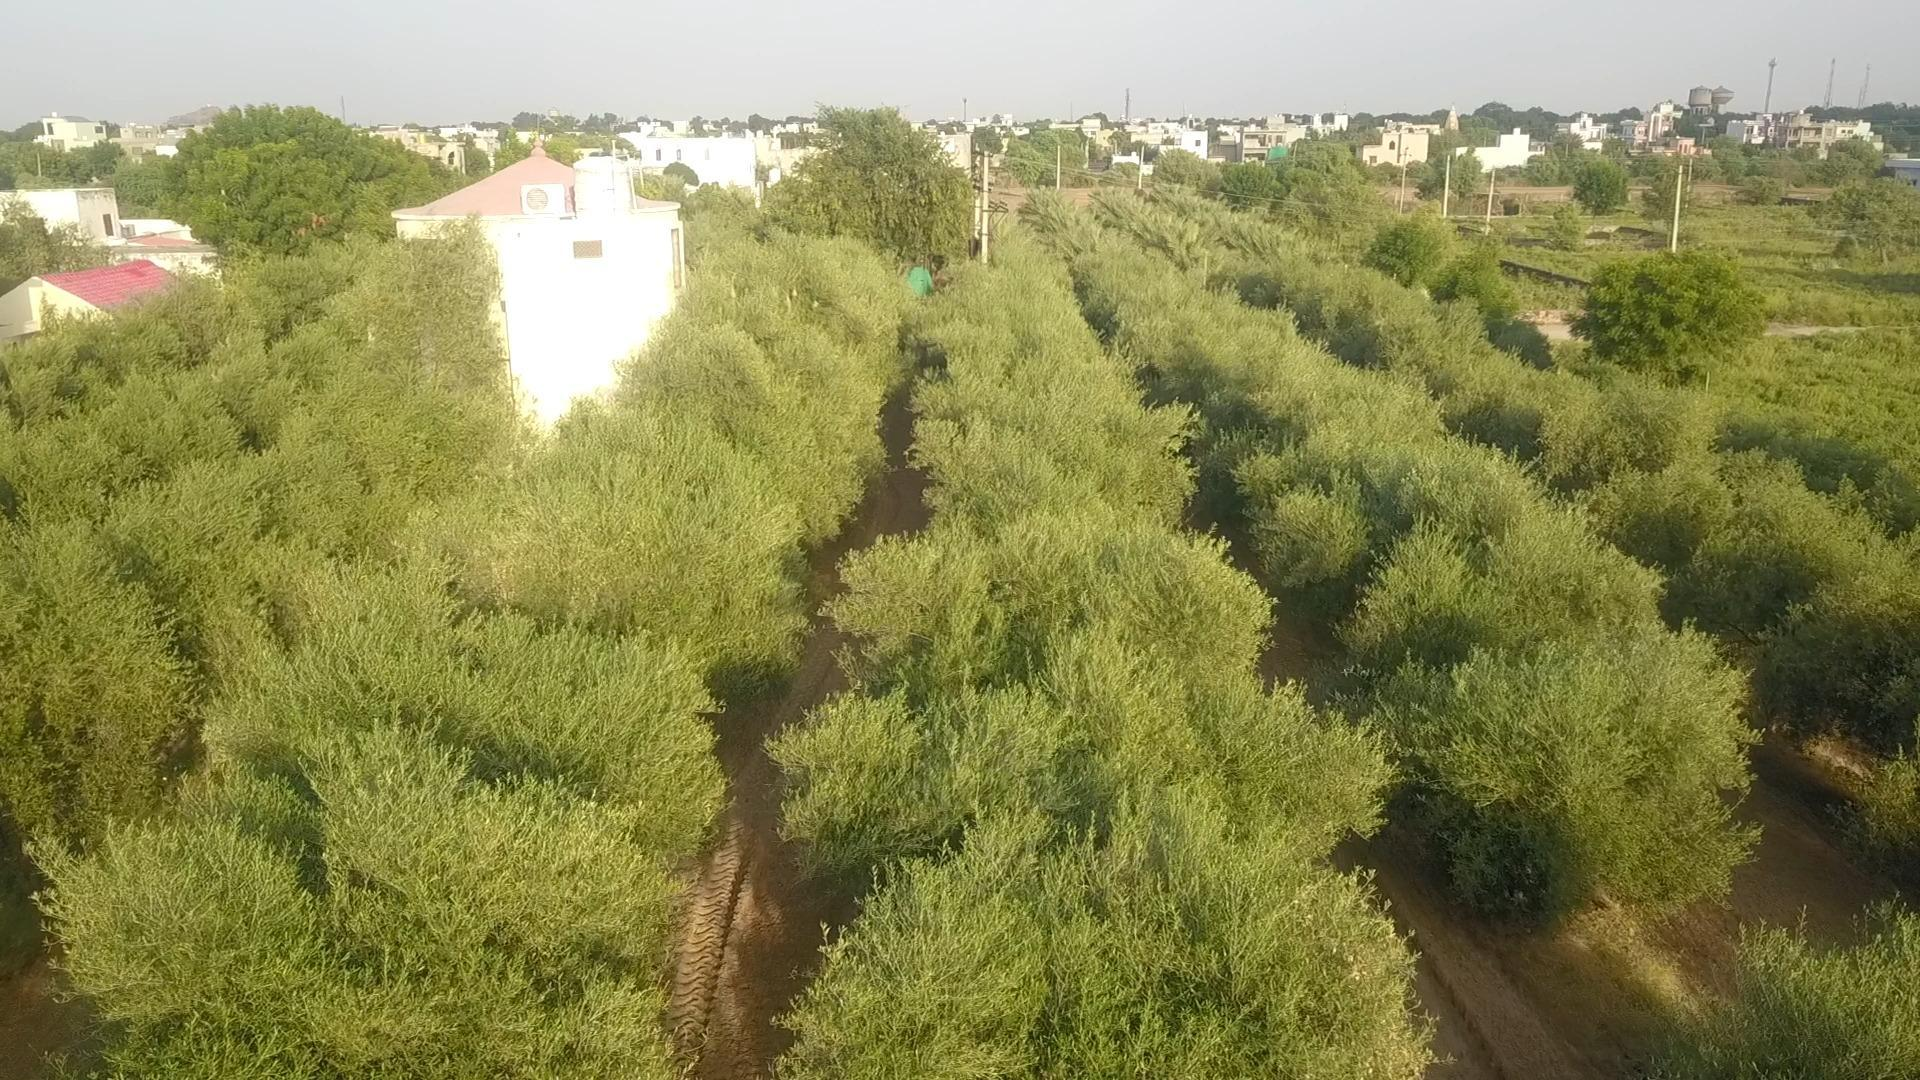canopy: (46, 236, 906, 1077), (766, 241, 1431, 1079), (1075, 237, 1755, 923), (1201, 216, 1919, 740), (0, 239, 521, 837)
road: (665, 406, 928, 1079), (1257, 622, 1589, 1079)
